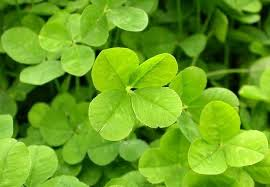4-clover: (86, 46, 183, 141)
